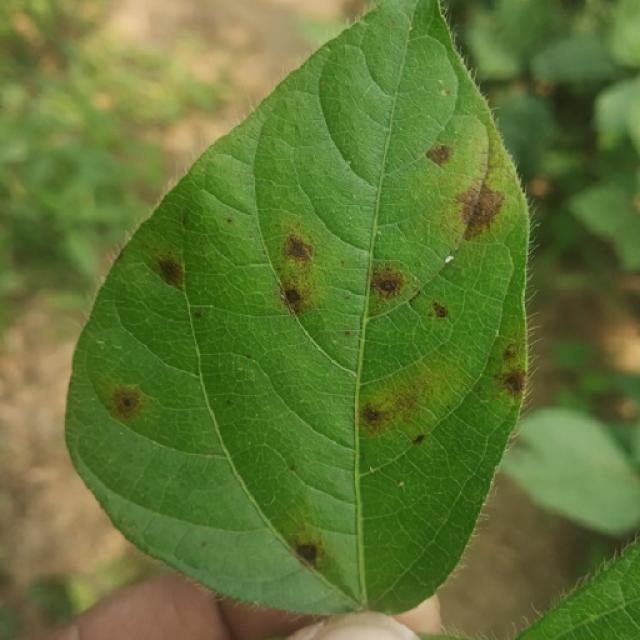Anthracnose: (272, 211, 453, 344), (416, 112, 489, 216), (467, 121, 523, 255), (130, 208, 196, 294), (91, 365, 162, 427), (272, 507, 332, 575), (273, 230, 319, 315), (363, 382, 427, 435), (459, 180, 506, 238), (492, 332, 528, 400), (145, 253, 192, 298), (369, 268, 408, 302), (110, 385, 146, 420), (410, 290, 450, 321), (280, 279, 313, 316), (155, 257, 185, 289), (285, 235, 314, 262), (295, 542, 319, 566), (426, 144, 452, 166), (112, 241, 132, 267), (502, 372, 523, 395), (362, 405, 383, 424), (503, 343, 520, 362), (284, 288, 302, 305), (431, 301, 448, 318), (378, 278, 397, 293), (409, 289, 423, 306), (120, 396, 134, 409), (412, 433, 426, 445), (440, 88, 449, 97), (193, 311, 202, 319), (200, 540, 208, 549), (344, 330, 353, 337), (245, 353, 253, 360), (226, 217, 233, 224), (289, 465, 296, 472)
Blackgram: (66, 0, 529, 615)
